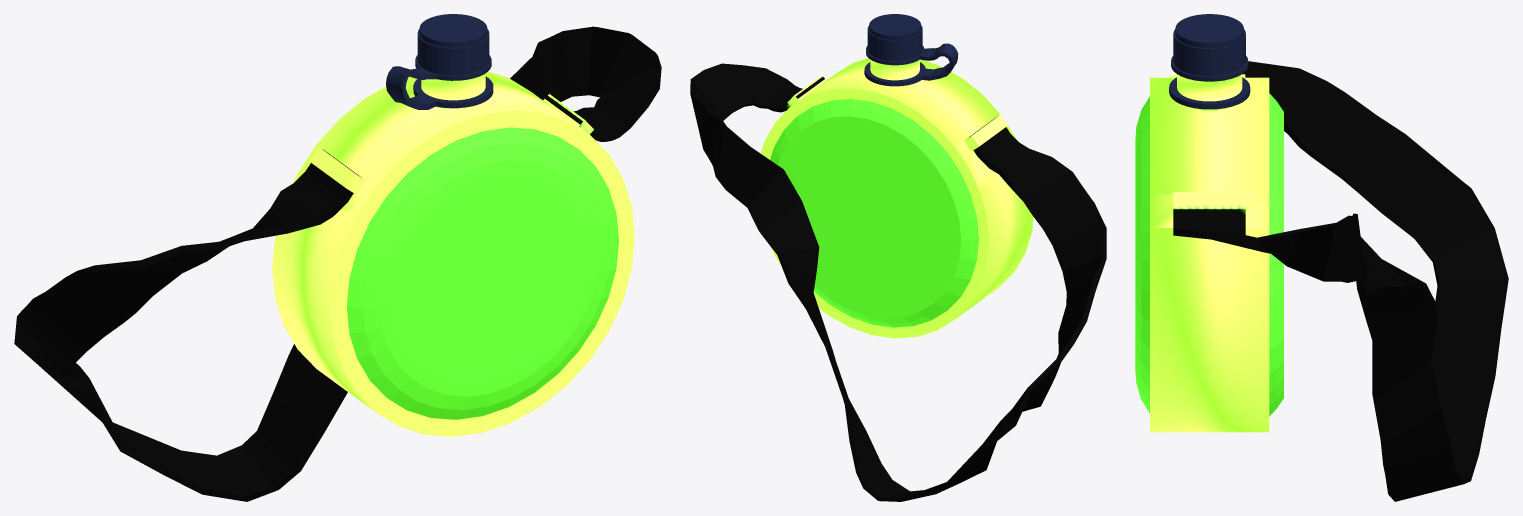
File: StaminaCanteen.fbx
3 renders of one model, left to right at view 1: azimuth 30°, elevation 25°; view 2: azimuth 150°, elevation 25°; view 3: azimuth 270°, elevation 25°, orthographic. The views are drawn at different scales.
Visible parts, largest first — view 1: Canteen TEst; view 2: Canteen TEst; view 3: Canteen TEst.
Boxes of the visible parts, box(x1,y1,x2,y2) form: Canteen TEst: box(14, 14, 661, 501); Canteen TEst: box(690, 14, 1106, 501); Canteen TEst: box(1135, 14, 1508, 501).
Bounding box in the file's own units: 367 × 325 × 211.
